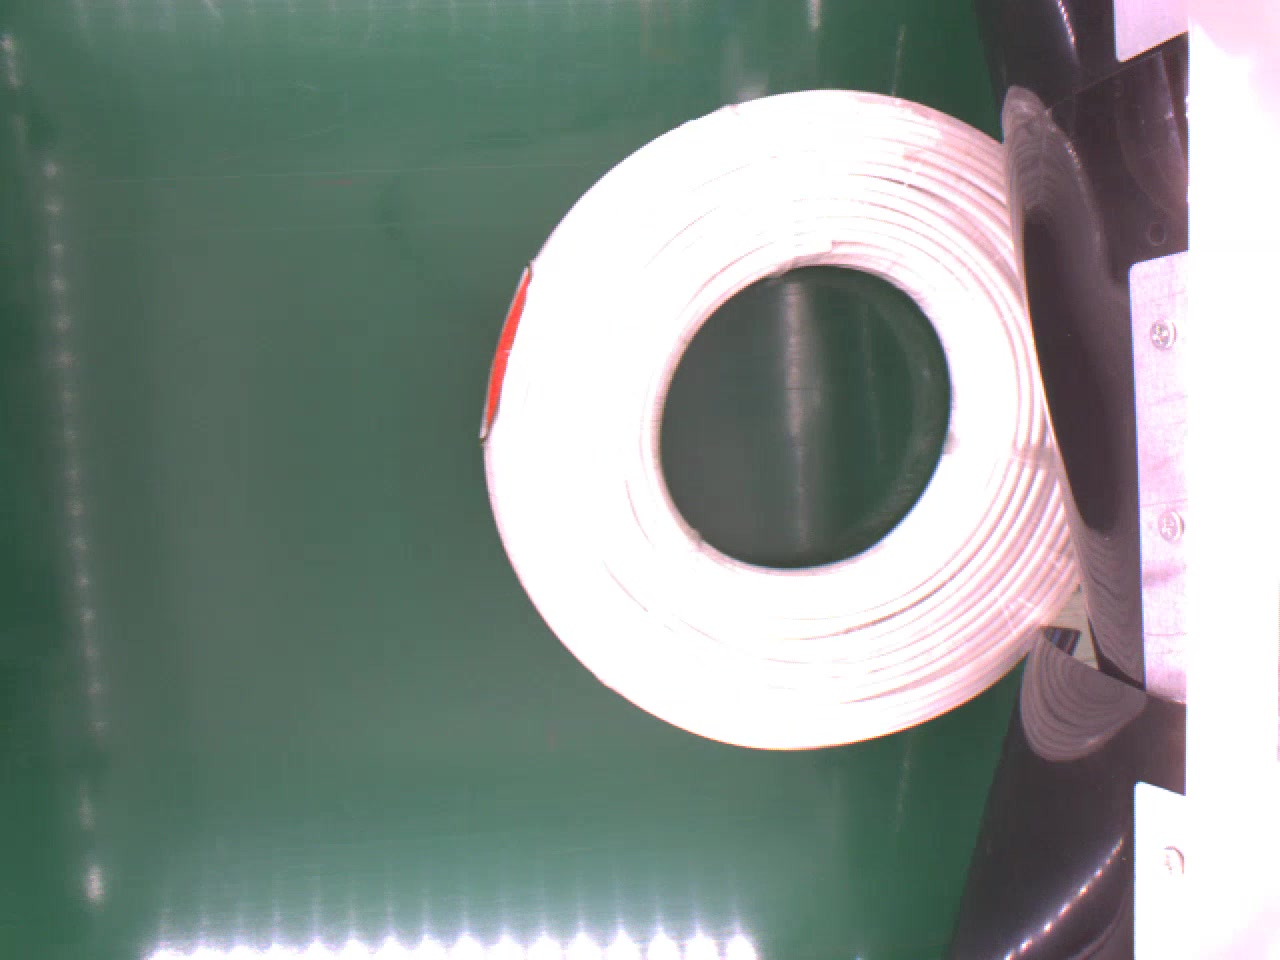white: (488, 86, 1084, 763)
